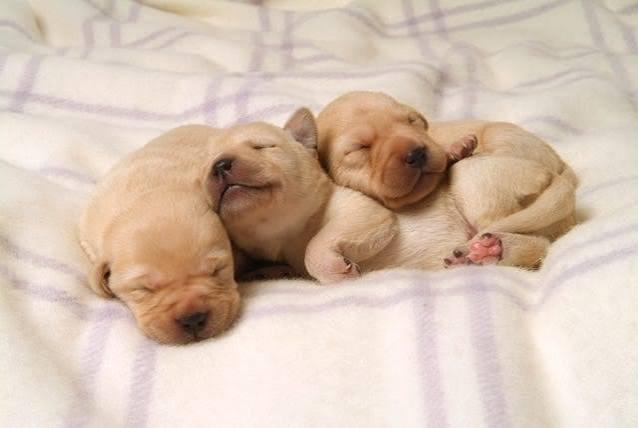puppy-dog: (204, 108, 506, 286), (311, 89, 581, 275), (76, 123, 244, 346)
